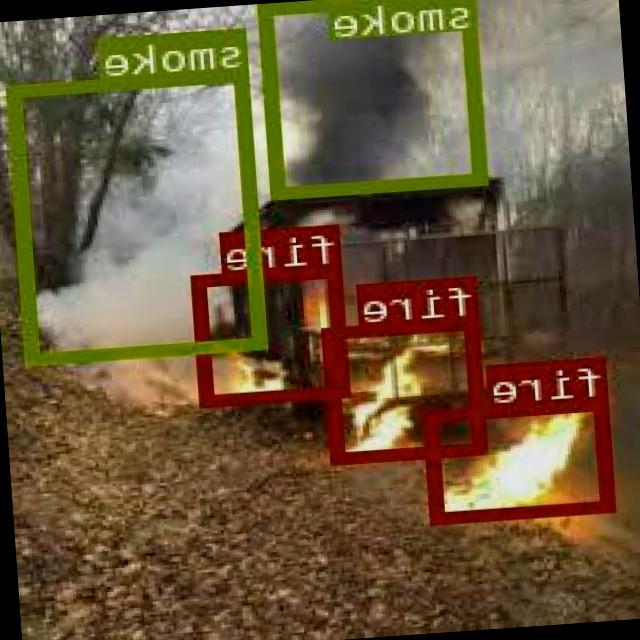fire: (324, 316, 491, 462), (426, 396, 616, 522), (193, 264, 352, 404)
smoke: (8, 66, 270, 362), (260, 0, 492, 198)
